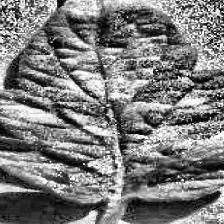leaf mold: (0, 0, 224, 200)
